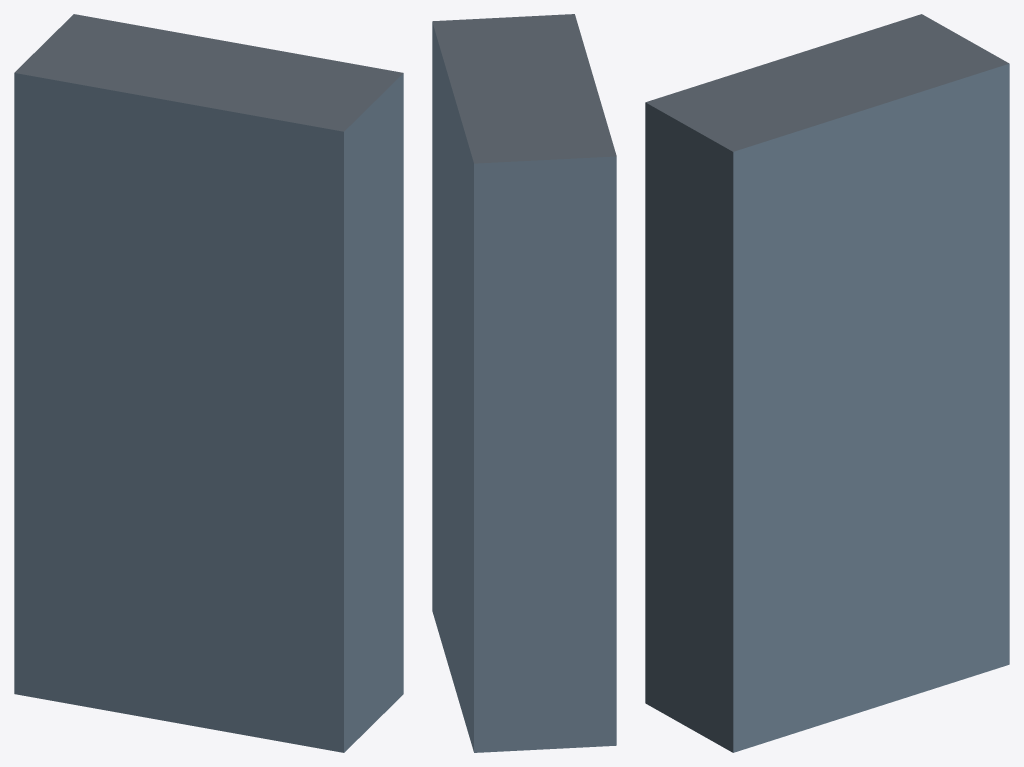
3 views of the same model, side by side, from view 1: azimuth 30°, elevation 25°; view 2: azimuth 150°, elevation 25°; view 3: azimuth 270°, elevation 25° (orthographic). The views are drawn at different scales.
Parts seen in each view (by area): view 1: HP-w745677072; view 2: HP-w745677072; view 3: HP-w745677072.
Part boxes in pixels (x1,y1,x2,y2): HP-w745677072: (14, 14, 403, 752); HP-w745677072: (432, 14, 616, 752); HP-w745677072: (645, 14, 1009, 752).
Size of the model in its own units: 65.45 by 133 by 73.05.
